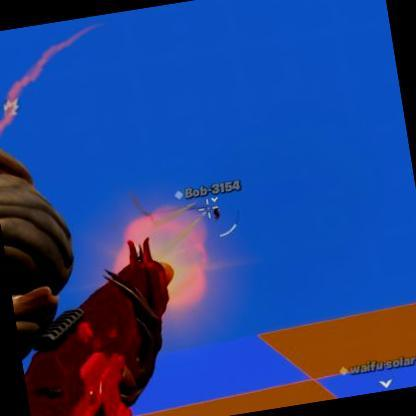person: (210, 199, 222, 220)
